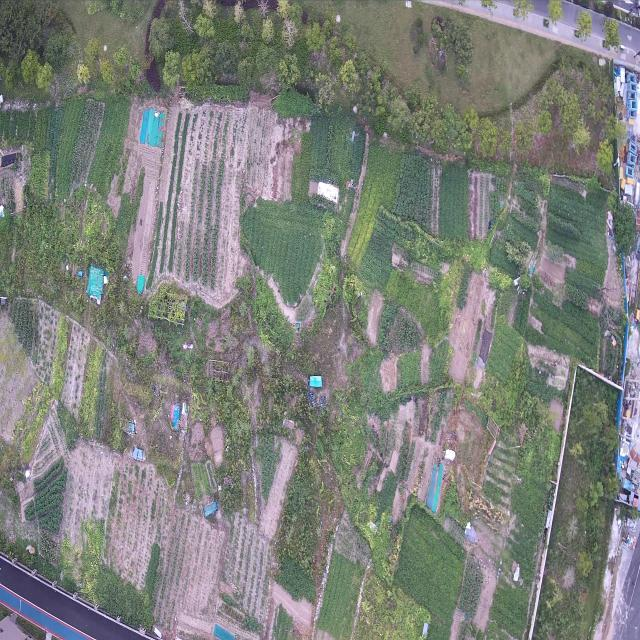UAV: (347, 129, 359, 144)
